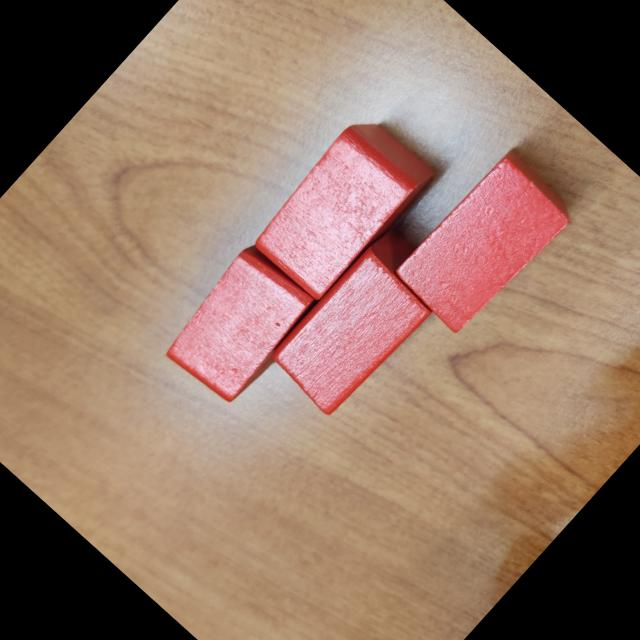red: (262, 221, 458, 424), (243, 107, 438, 308), (389, 146, 579, 342), (157, 240, 324, 410)
